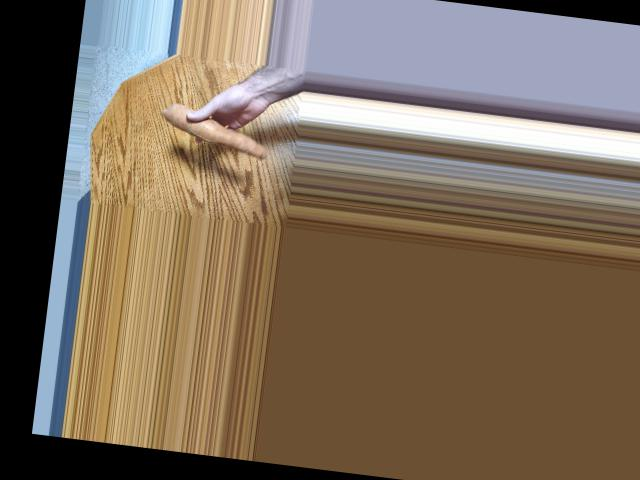sweet_potato: (161, 108, 277, 152)
